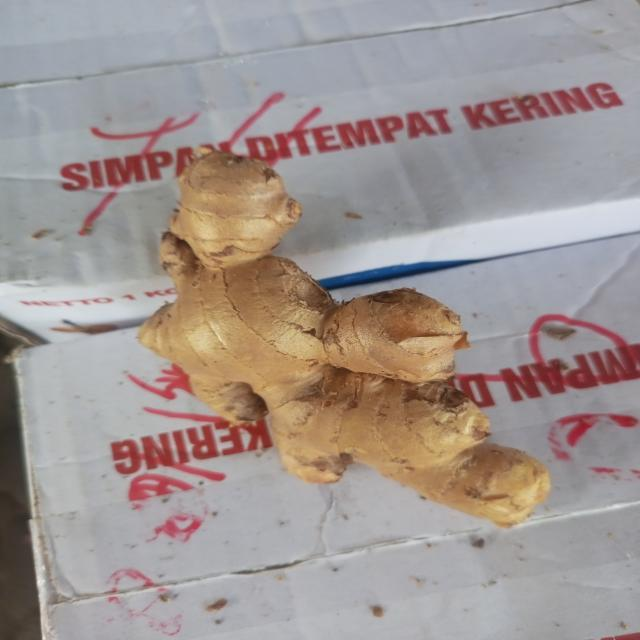ginger: (150, 163, 544, 517)
